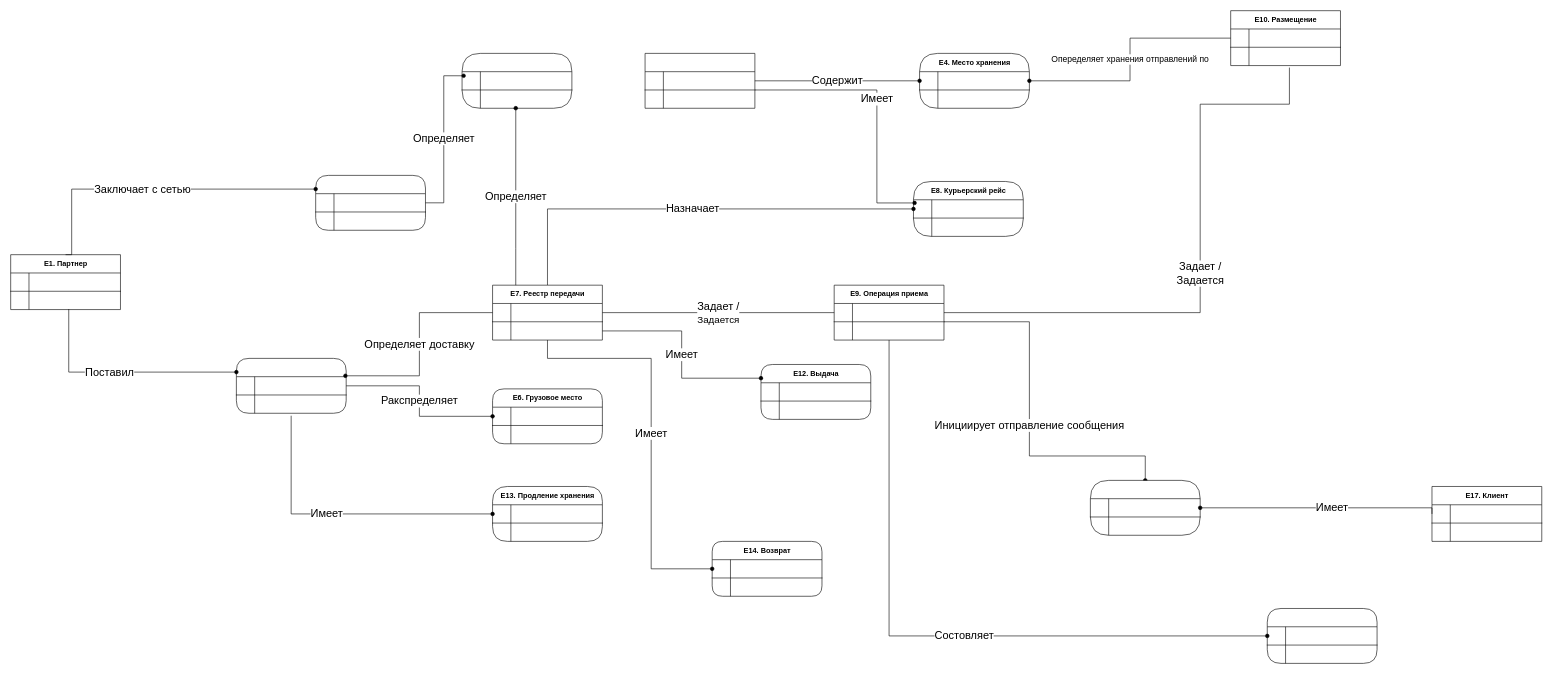
The diagram is 1552 pixels wide and 674 high, and some of its shapes have lost their labels. The box of each missing label's shape, as (x1, y1, x2, y2) in pixels:
E11. Уведомление: (1090, 480, 1200, 535)
E15. Акт расхождения: (1267, 608, 1377, 663)
E16. Начисление партнеру: (461, 53, 572, 108)
E2. Договор партнера: (315, 175, 425, 230)
E3. Пункт выдачи: (644, 53, 755, 108)
E5. Отправление: (236, 358, 346, 413)
